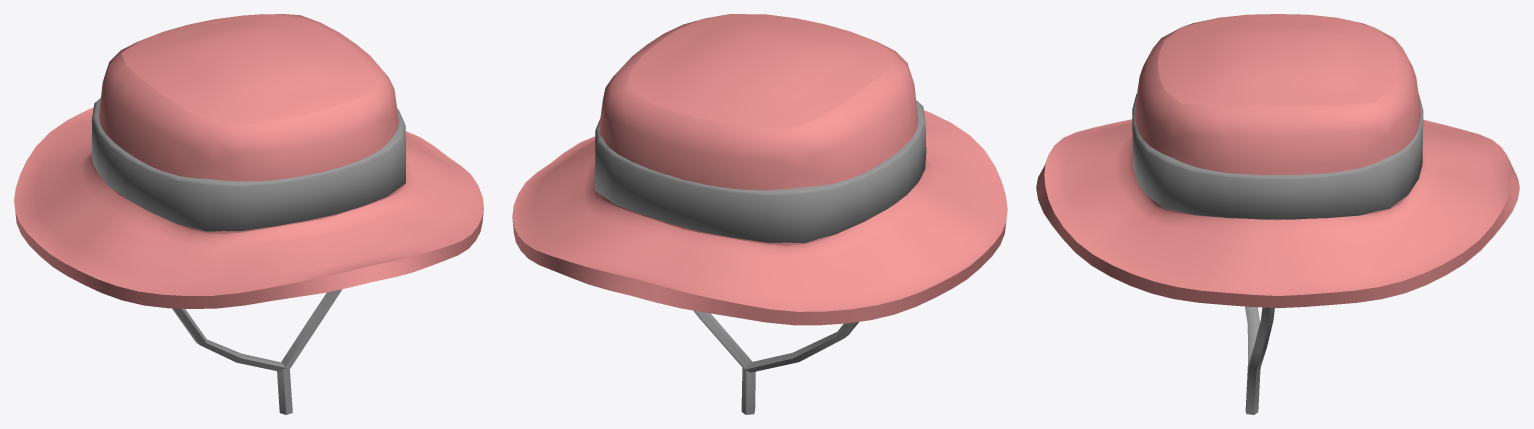
Rendered from FarmingHat.fbx.
The picture shows the model from 3 angles, left to right: view 1: azimuth 30°, elevation 25°; view 2: azimuth 150°, elevation 25°; view 3: azimuth 270°, elevation 25°; orthographic projection. The views are drawn at different scales.
Visible parts, largest first — view 1: SM_Hat_Farming01; view 2: SM_Hat_Farming01; view 3: SM_Hat_Farming01.
Boxes of the visible parts, x1,y1,x2,y2 form: SM_Hat_Farming01: (14, 14, 483, 414); SM_Hat_Farming01: (512, 14, 1007, 414); SM_Hat_Farming01: (1036, 14, 1519, 414).
Bounding box in the file's own units: 244 × 210 × 260.
